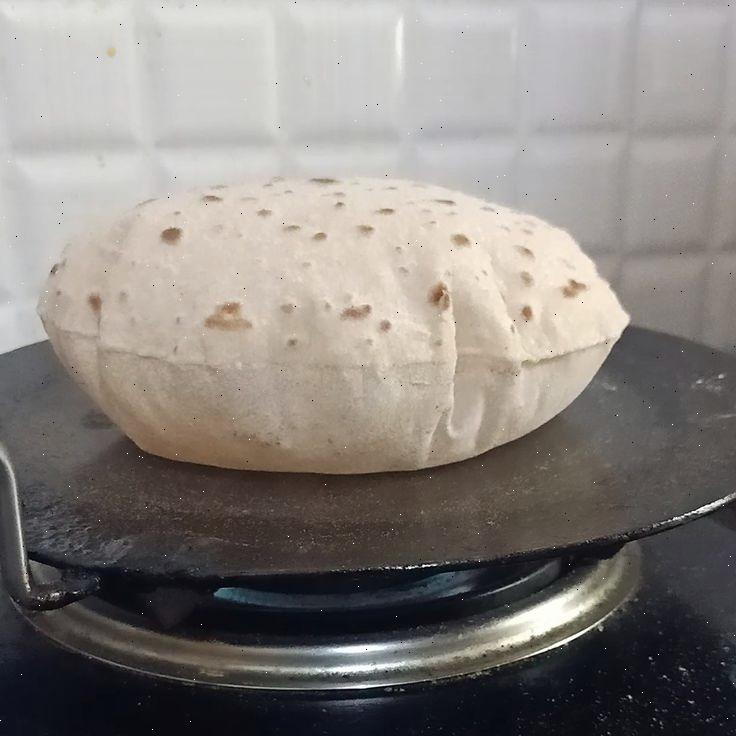roti phulka: (36, 169, 631, 478)
